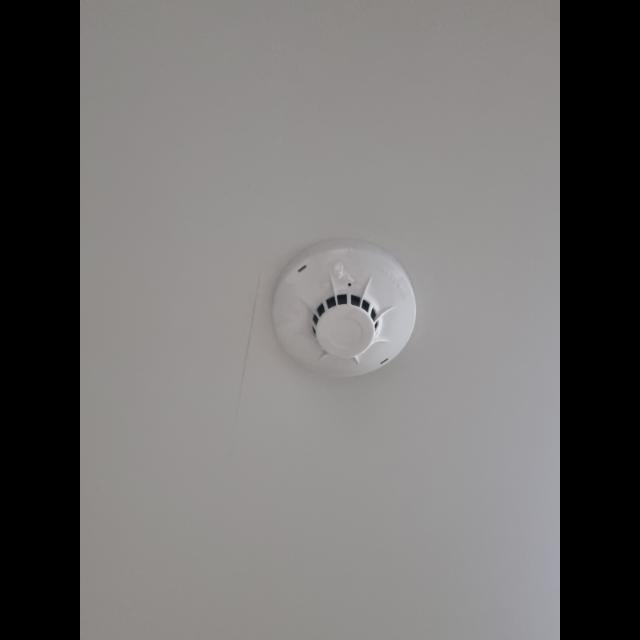Smoke-Detector: (273, 242, 417, 382)
